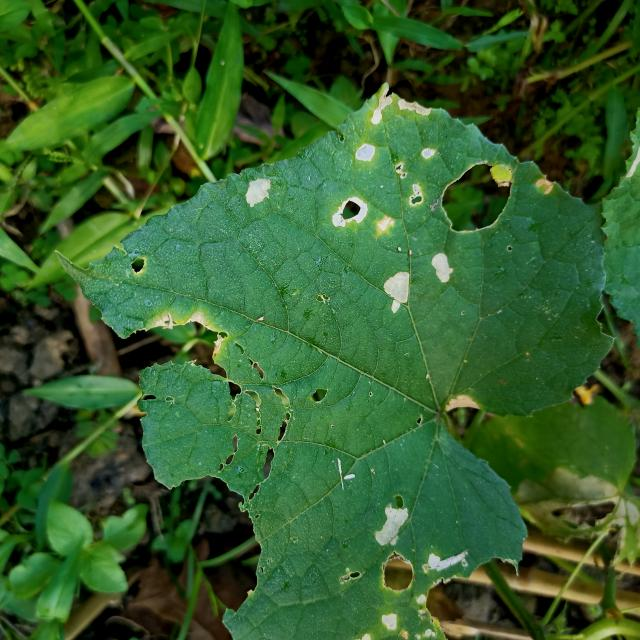disease_cucumber: (236, 81, 444, 240), (340, 496, 478, 636), (380, 241, 458, 312)
